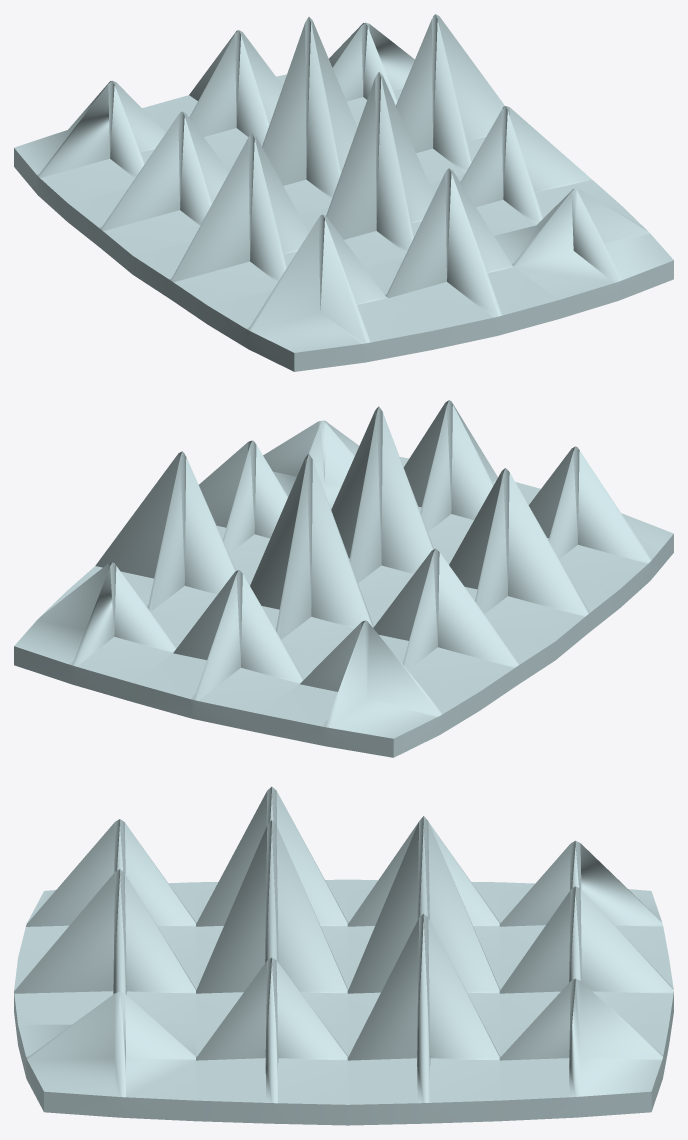
The model's file is jianci.fbx.
3 views of the same model, one above another, from view 1: azimuth 30°, elevation 25°; view 2: azimuth 150°, elevation 25°; view 3: azimuth 270°, elevation 25° (orthographic). The views are drawn at different scales.
Visible parts, largest first — view 1: Plane001; view 2: Plane001; view 3: Plane001.
Boxes of the visible parts, left/top/right/bottom form: Plane001: left=14, top=14, right=673, bottom=371; Plane001: left=14, top=400, right=673, bottom=757; Plane001: left=14, top=786, right=673, bottom=1125.
Bounding box in the file's own units: 4.34 × 1.76 × 5.37.
